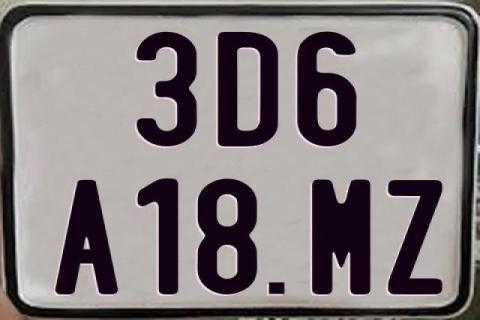0: (134, 32, 198, 150), (296, 30, 360, 146), (196, 178, 260, 294), (135, 177, 180, 297)
A: (54, 179, 118, 295)
D: (215, 30, 280, 148)
M: (309, 177, 370, 293)
Z: (386, 178, 440, 296)
